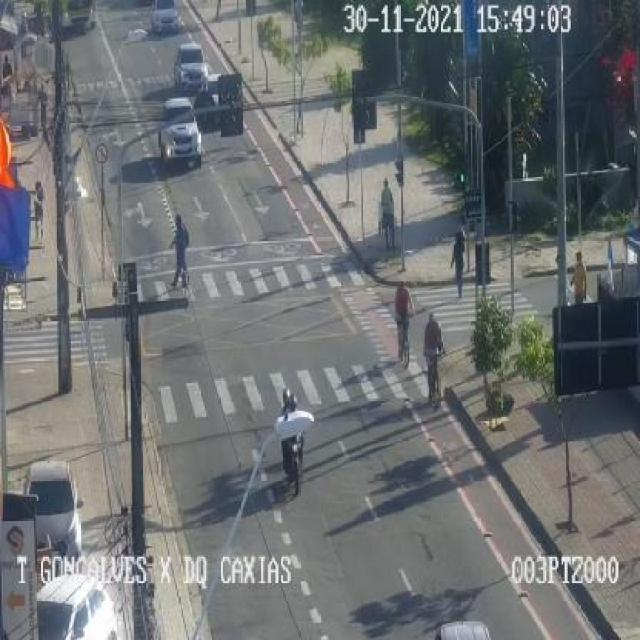Car: (21, 454, 84, 561), (30, 578, 115, 640), (160, 96, 202, 166), (176, 40, 212, 92), (148, 0, 185, 37)
Cycle: (278, 384, 306, 499), (393, 279, 420, 376), (423, 312, 445, 404)
